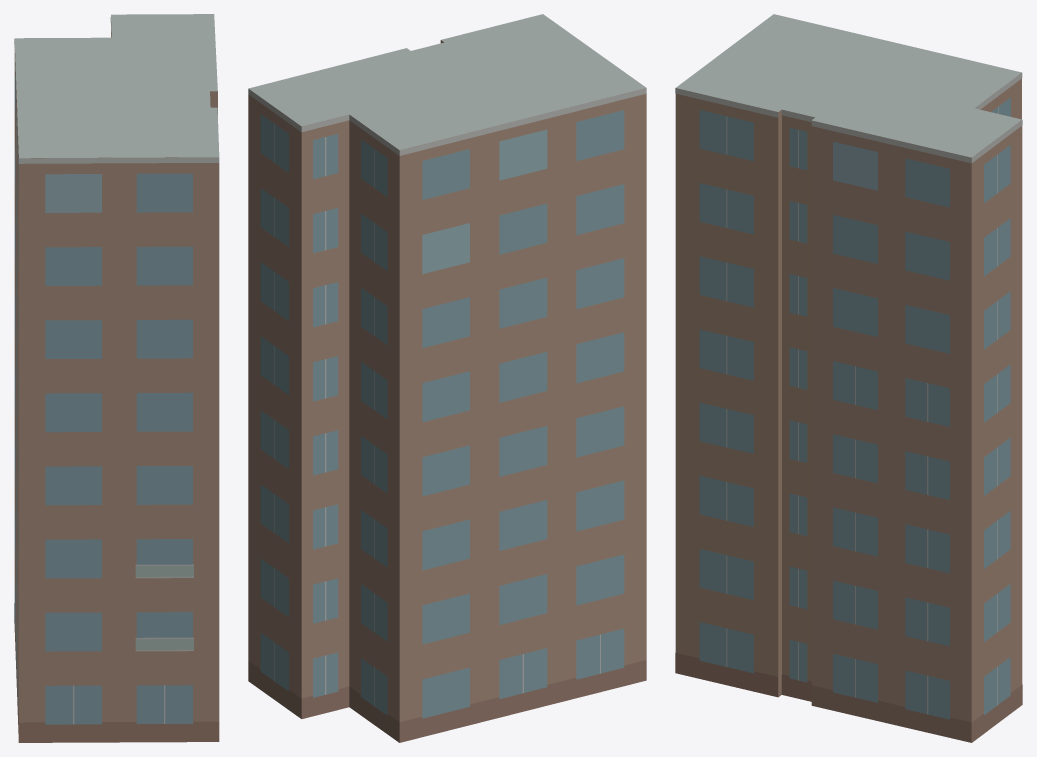
The model's file is survey-upis-32559153.glb.
3 renders of one model, left to right at view 1: azimuth 30°, elevation 25°; view 2: azimuth 150°, elevation 25°; view 3: azimuth 270°, elevation 25°, orthographic.
Parts seen in each view (by area): view 1: survey-upis-32559153.tmp; view 2: survey-upis-32559153.tmp; view 3: survey-upis-32559153.tmp.
Boxes of the visible parts, x1,y1,x2,y2 form: survey-upis-32559153.tmp: [14, 14, 219, 742]; survey-upis-32559153.tmp: [248, 14, 646, 742]; survey-upis-32559153.tmp: [675, 14, 1022, 742].
Size of the model in its own units: 13.28 by 25.2 by 13.55.
